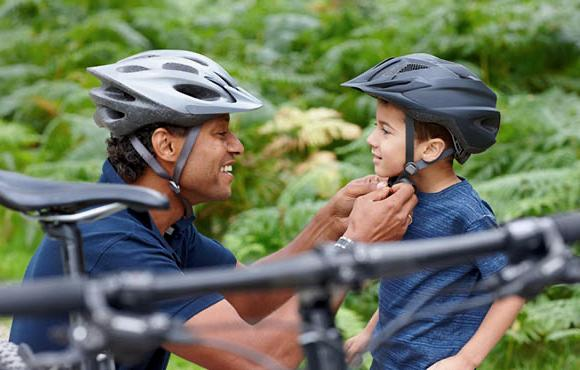With Helmet: (82, 39, 271, 202), (338, 49, 513, 179)
